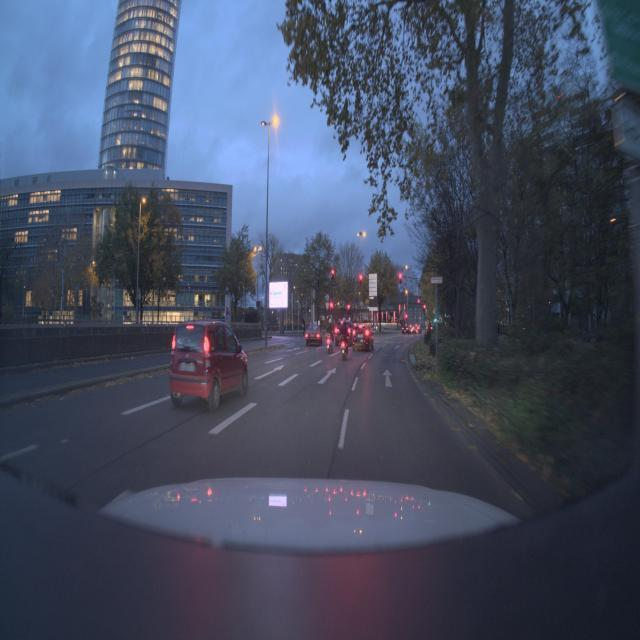red_light: (393, 268, 415, 292), (352, 268, 370, 292), (326, 262, 342, 286)
